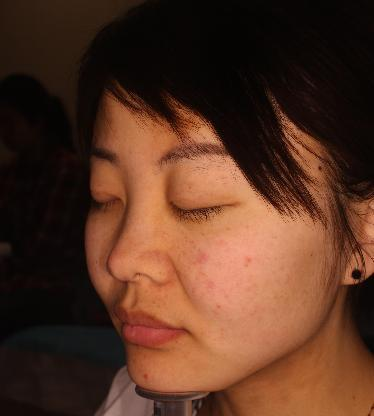Blackheads: (312, 161, 326, 176)
Papules: (138, 369, 152, 381)
acne scar: (191, 247, 213, 267), (240, 252, 256, 266), (213, 302, 225, 311)
